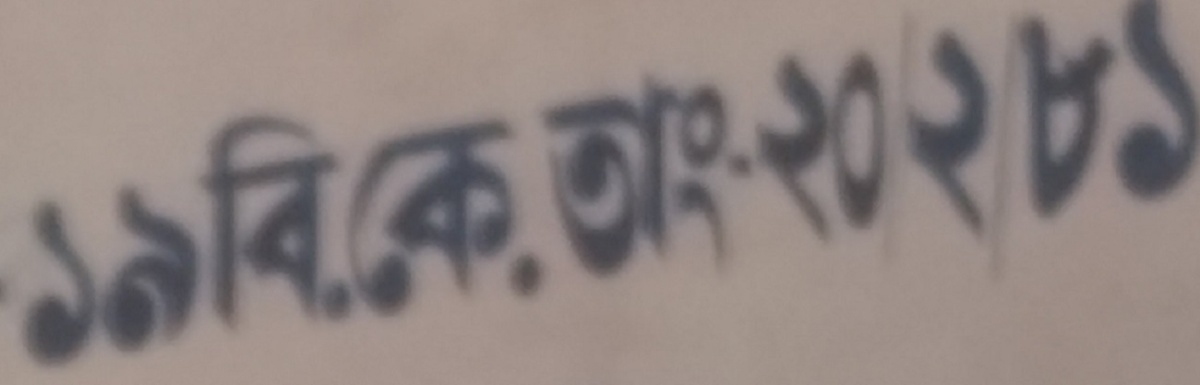text: (33, 4, 48, 376), (49, 4, 64, 376), (65, 4, 80, 376), (81, 4, 96, 376), (97, 4, 112, 376), (113, 4, 128, 376), (129, 4, 144, 376), (145, 4, 160, 376), (161, 4, 176, 376), (177, 4, 192, 376), (193, 4, 208, 376), (209, 4, 224, 376), (225, 4, 240, 376), (241, 4, 256, 376), (257, 4, 272, 376), (273, 4, 288, 376), (289, 4, 304, 376), (305, 4, 320, 376), (321, 4, 336, 376), (337, 4, 352, 376), (353, 4, 368, 376), (369, 4, 384, 376), (385, 4, 400, 376), (401, 4, 416, 376), (417, 4, 432, 376), (433, 4, 448, 376), (449, 4, 464, 376), (465, 4, 480, 376), (481, 4, 496, 376), (497, 4, 512, 376), (513, 4, 528, 376), (529, 4, 544, 376), (545, 4, 560, 376), (561, 4, 576, 376), (577, 4, 592, 376), (593, 4, 608, 376), (609, 4, 624, 376), (625, 4, 640, 376), (641, 4, 656, 376), (657, 4, 672, 376), (673, 4, 688, 376), (689, 4, 704, 376), (705, 4, 720, 376), (721, 4, 736, 376), (737, 4, 752, 376), (753, 4, 768, 376), (769, 4, 784, 376), (785, 4, 800, 376), (801, 4, 816, 376), (817, 4, 832, 376), (833, 4, 848, 376), (849, 4, 864, 376), (865, 4, 880, 376), (881, 4, 896, 376), (897, 4, 912, 376), (913, 4, 928, 376), (929, 4, 944, 376), (945, 4, 960, 376), (961, 4, 976, 376), (977, 4, 992, 376), (993, 4, 1008, 376), (1009, 4, 1024, 376), (1025, 4, 1040, 376), (1041, 4, 1056, 376), (1057, 4, 1072, 376), (1073, 4, 1088, 376), (1089, 4, 1104, 376), (1105, 4, 1120, 376), (1121, 4, 1136, 376), (1137, 4, 1152, 376), (1153, 4, 1168, 376), (1169, 4, 1184, 376), (1185, 4, 1199, 376), (22, 4, 32, 376)
